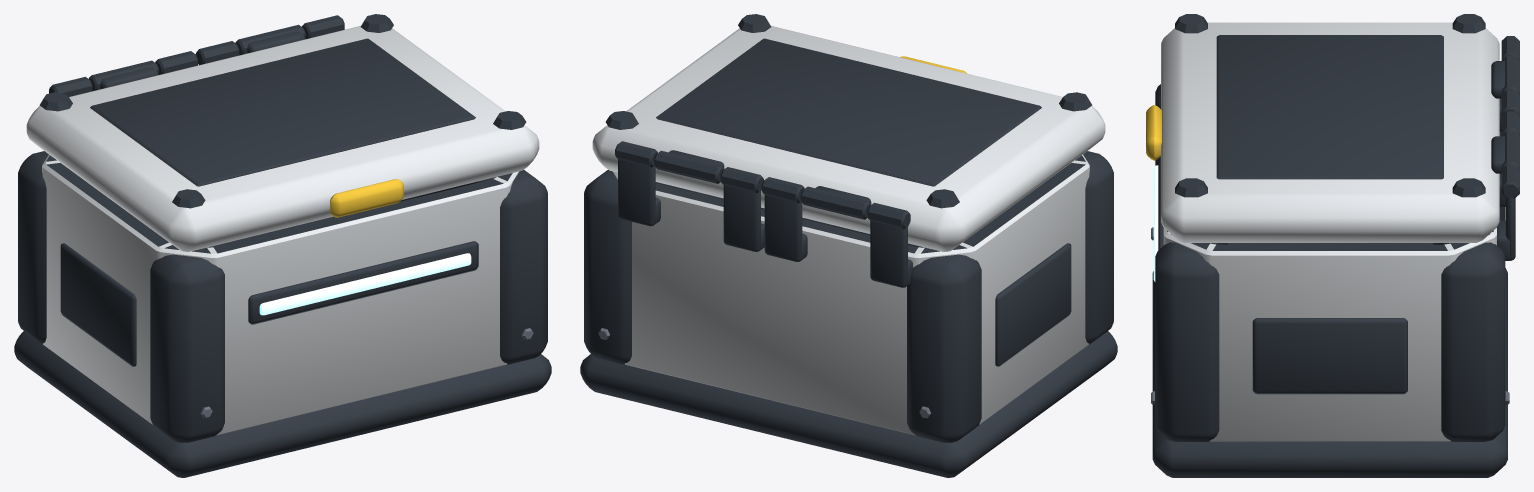
File: Crate_Small.fbx
3 renders of one model, left to right at view 1: azimuth 30°, elevation 25°; view 2: azimuth 150°, elevation 25°; view 3: azimuth 270°, elevation 25°, orthographic. The views are drawn at different scales.
Visible parts, largest first — view 1: Body, Lid; view 2: Body, Lid; view 3: Body, Lid.
Boxes of the visible parts, x1,y1,x2,y2 form: Body: [14, 15, 551, 477]; Lid: [26, 14, 539, 251]; Body: [580, 141, 1117, 477]; Lid: [592, 14, 1105, 251]; Body: [1151, 36, 1519, 477]; Lid: [1146, 14, 1519, 242].
Size of the model in its own units: 0.84 by 0.569 by 0.6736.
